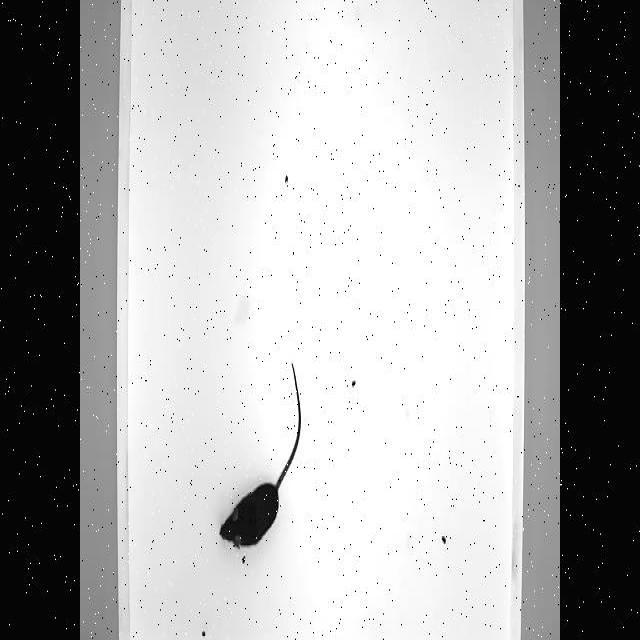rat: (215, 355, 305, 550)
